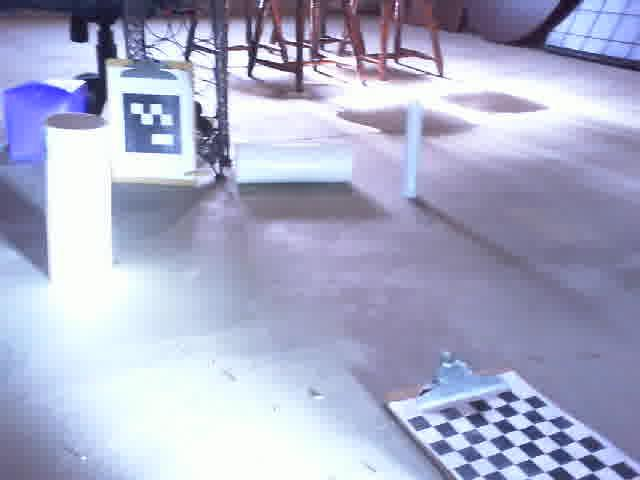coral: (41, 109, 118, 302), (232, 139, 358, 189)
